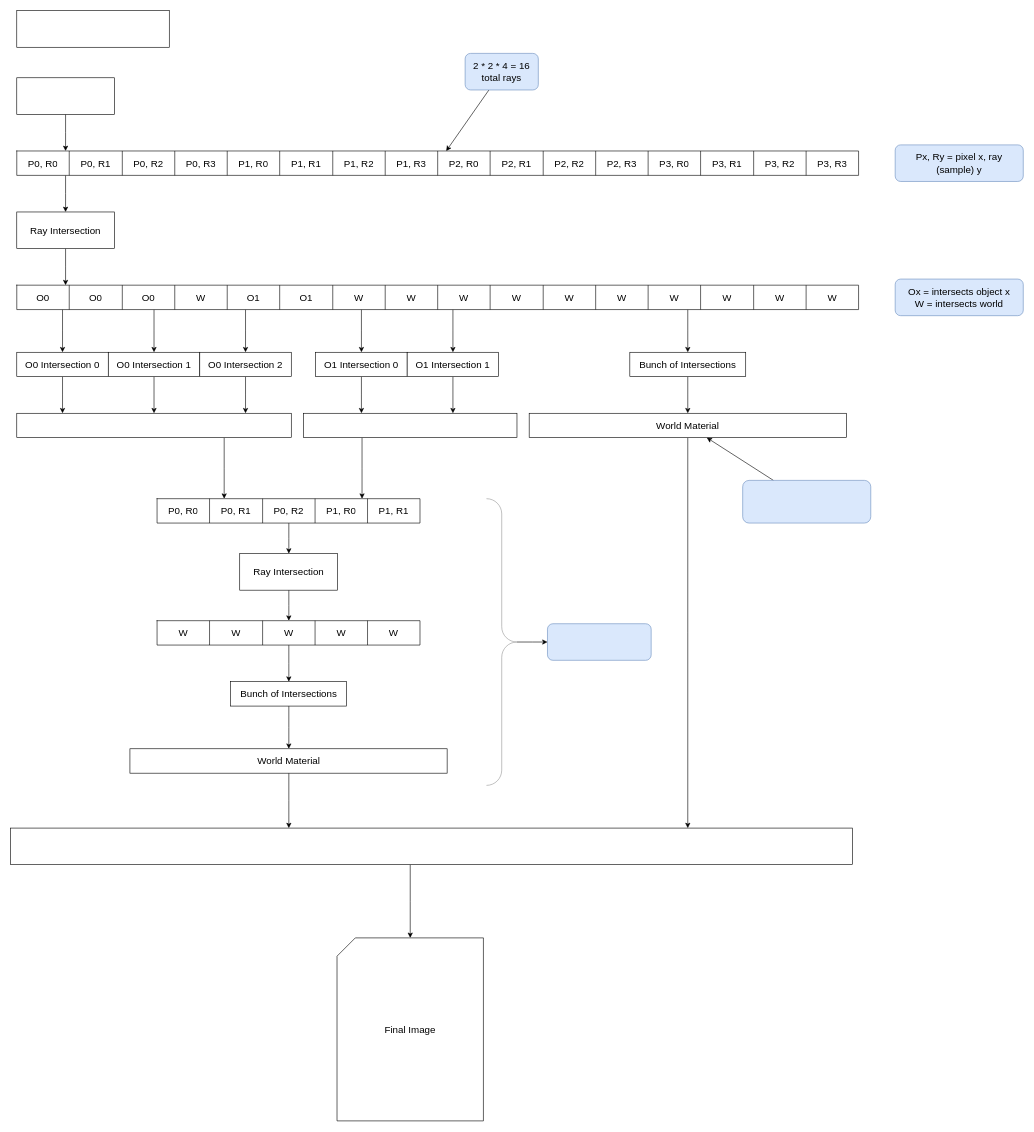
Image size: 1034x1132. Some labels were removed from this diagram. Each missing label, with the box of its shape:
2 x 2 image, 4 samples: (16, 10, 169, 47)
Completed rays are sent directly to sample accumulator: (742, 480, 871, 523)
Material ID 0: (16, 413, 291, 438)
Material ID 1: (303, 413, 517, 438)
Ray Initialization: (16, 77, 114, 114)
Ray intersection and material handling iteration 2: (547, 623, 651, 660)
Sample Accumulator: (10, 827, 852, 865)
